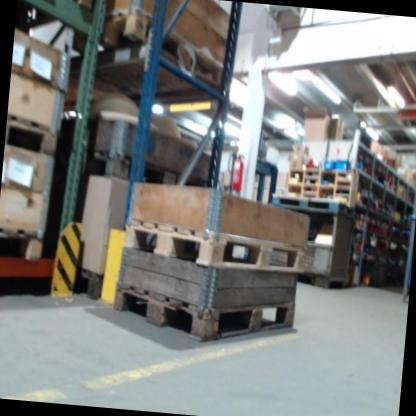pallet: (69, 4, 231, 100), (111, 282, 297, 351), (122, 216, 309, 277), (4, 111, 61, 159), (0, 228, 45, 262)
stillage: (253, 193, 362, 292)
